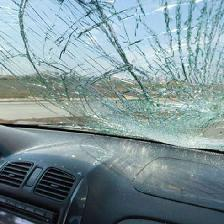dent: (92, 64, 167, 122)
